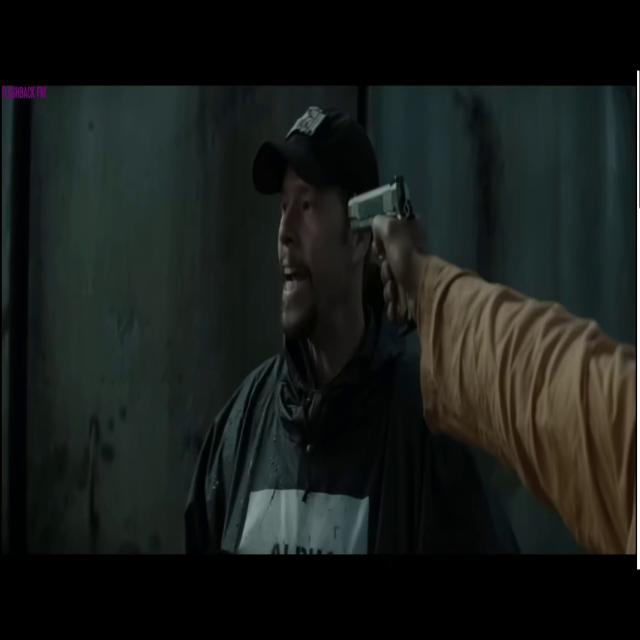weapons: (341, 156, 430, 318)
